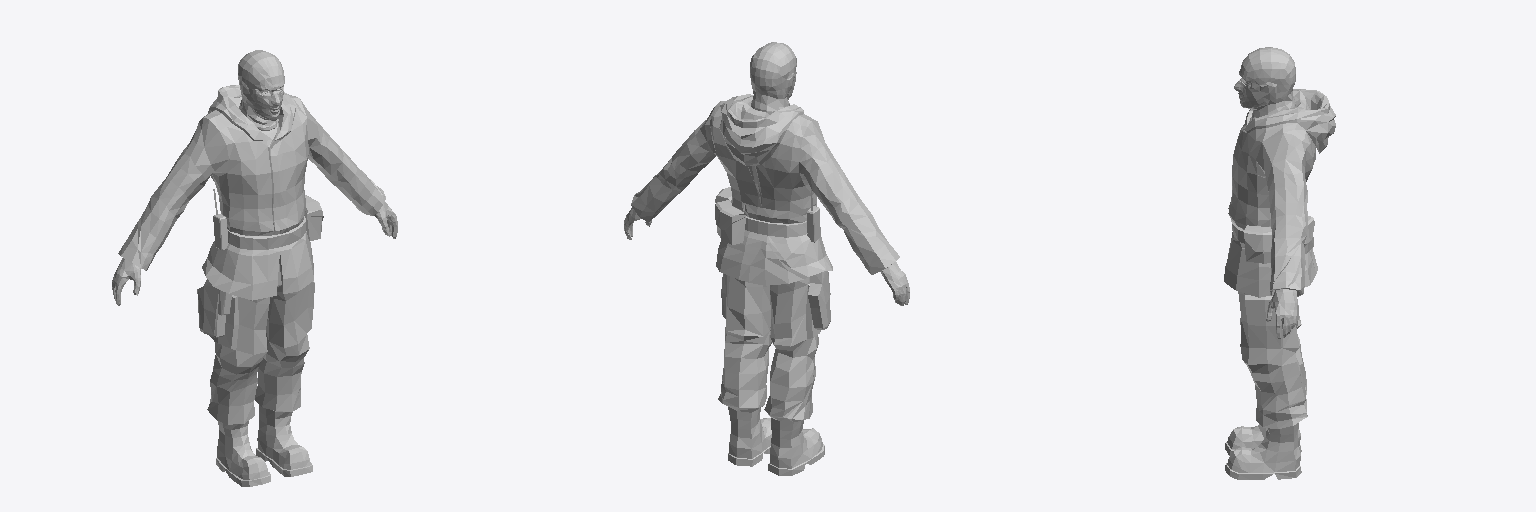
File: Arctic_T.obj
3 views of the same model, side by side, from view 1: azimuth 30°, elevation 25°; view 2: azimuth 150°, elevation 25°; view 3: azimuth 270°, elevation 25° (orthographic).
Parts seen in each view (by area): view 1: t_arctic_t_arctic_reference.smd; view 2: t_arctic_t_arctic_reference.smd; view 3: t_arctic_t_arctic_reference.smd.
Part boxes in pixels (x1,y1,x2,y2): t_arctic_t_arctic_reference.smd: (112, 50, 397, 486); t_arctic_t_arctic_reference.smd: (624, 42, 909, 475); t_arctic_t_arctic_reference.smd: (1224, 47, 1335, 479).
Size of the model in its own units: 1.04 by 1.46 by 0.36.